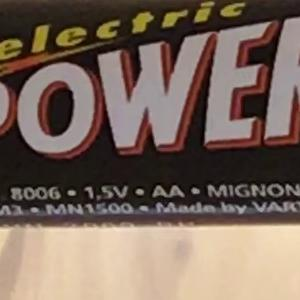keyword: (75, 177, 137, 208)
